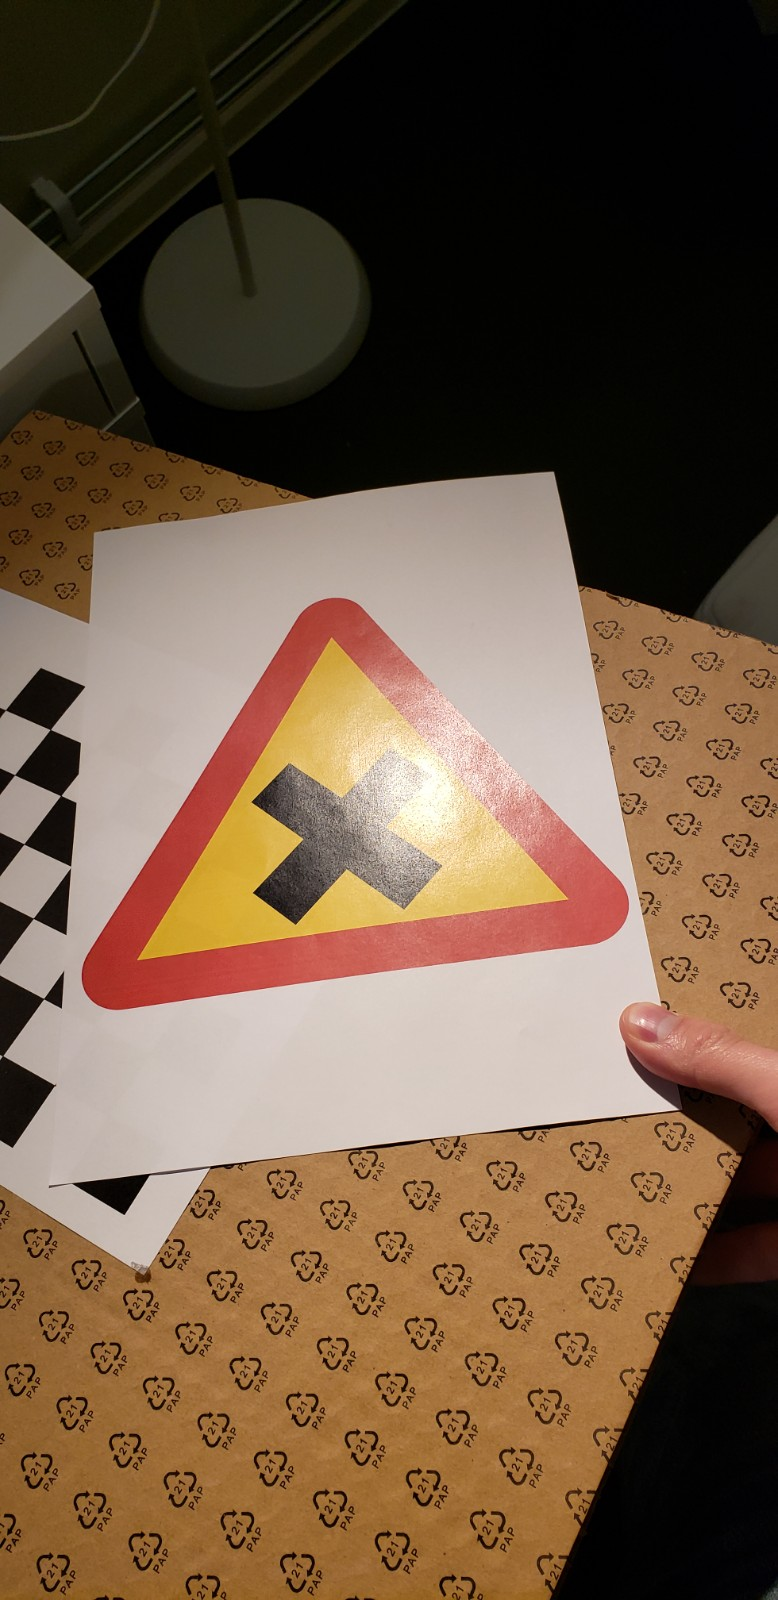junction: (62, 589, 674, 1008)
